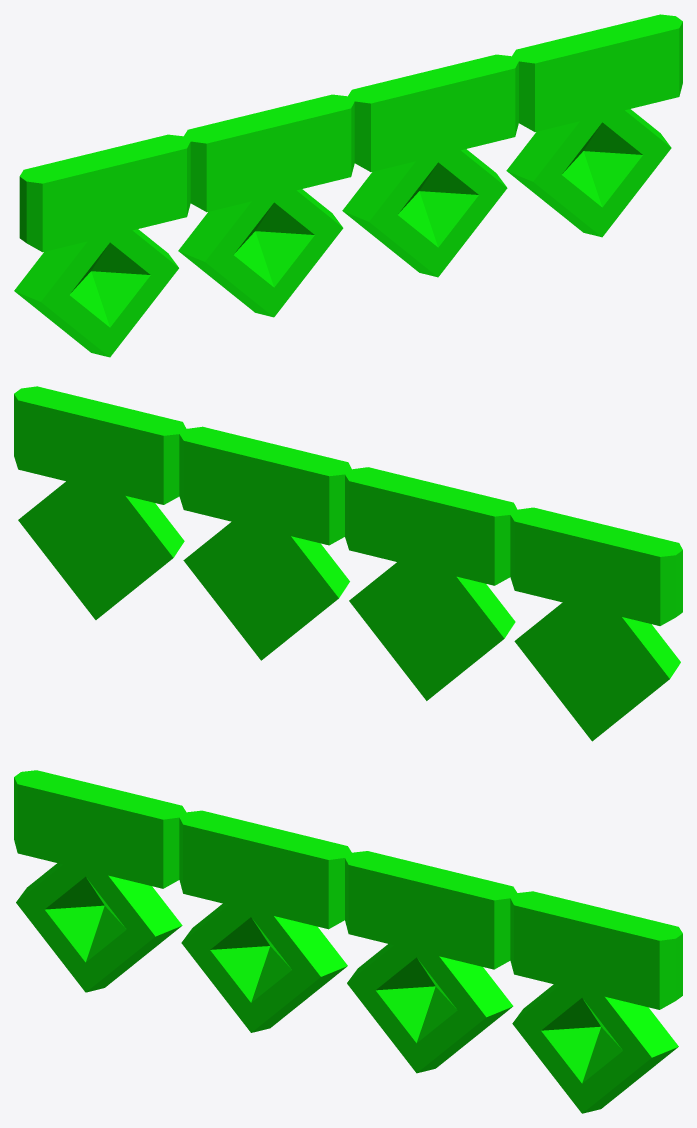
Rendered from SM_Wall_Deco_Wood_Rim_A.fbx.
3 renders of one model, top to bottom at view 1: azimuth 30°, elevation 25°; view 2: azimuth 150°, elevation 25°; view 3: azimuth 330°, elevation 25°, orthographic.
Visible parts, largest first — view 1: wall-deco-wood-rim-a; view 2: wall-deco-wood-rim-a; view 3: wall-deco-wood-rim-a.
Part boxes in pixels (<box>): wall-deco-wood-rim-a: <box>14,14,682,357</box>; wall-deco-wood-rim-a: <box>14,386,682,741</box>; wall-deco-wood-rim-a: <box>14,770,682,1113</box>.
Size of the model in its own units: 1 by 0.2905 by 0.05.
